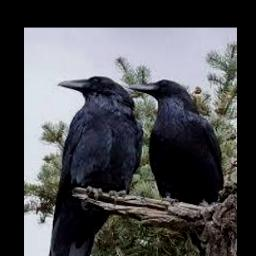Crow: (46, 76, 144, 256), (129, 79, 225, 207)
